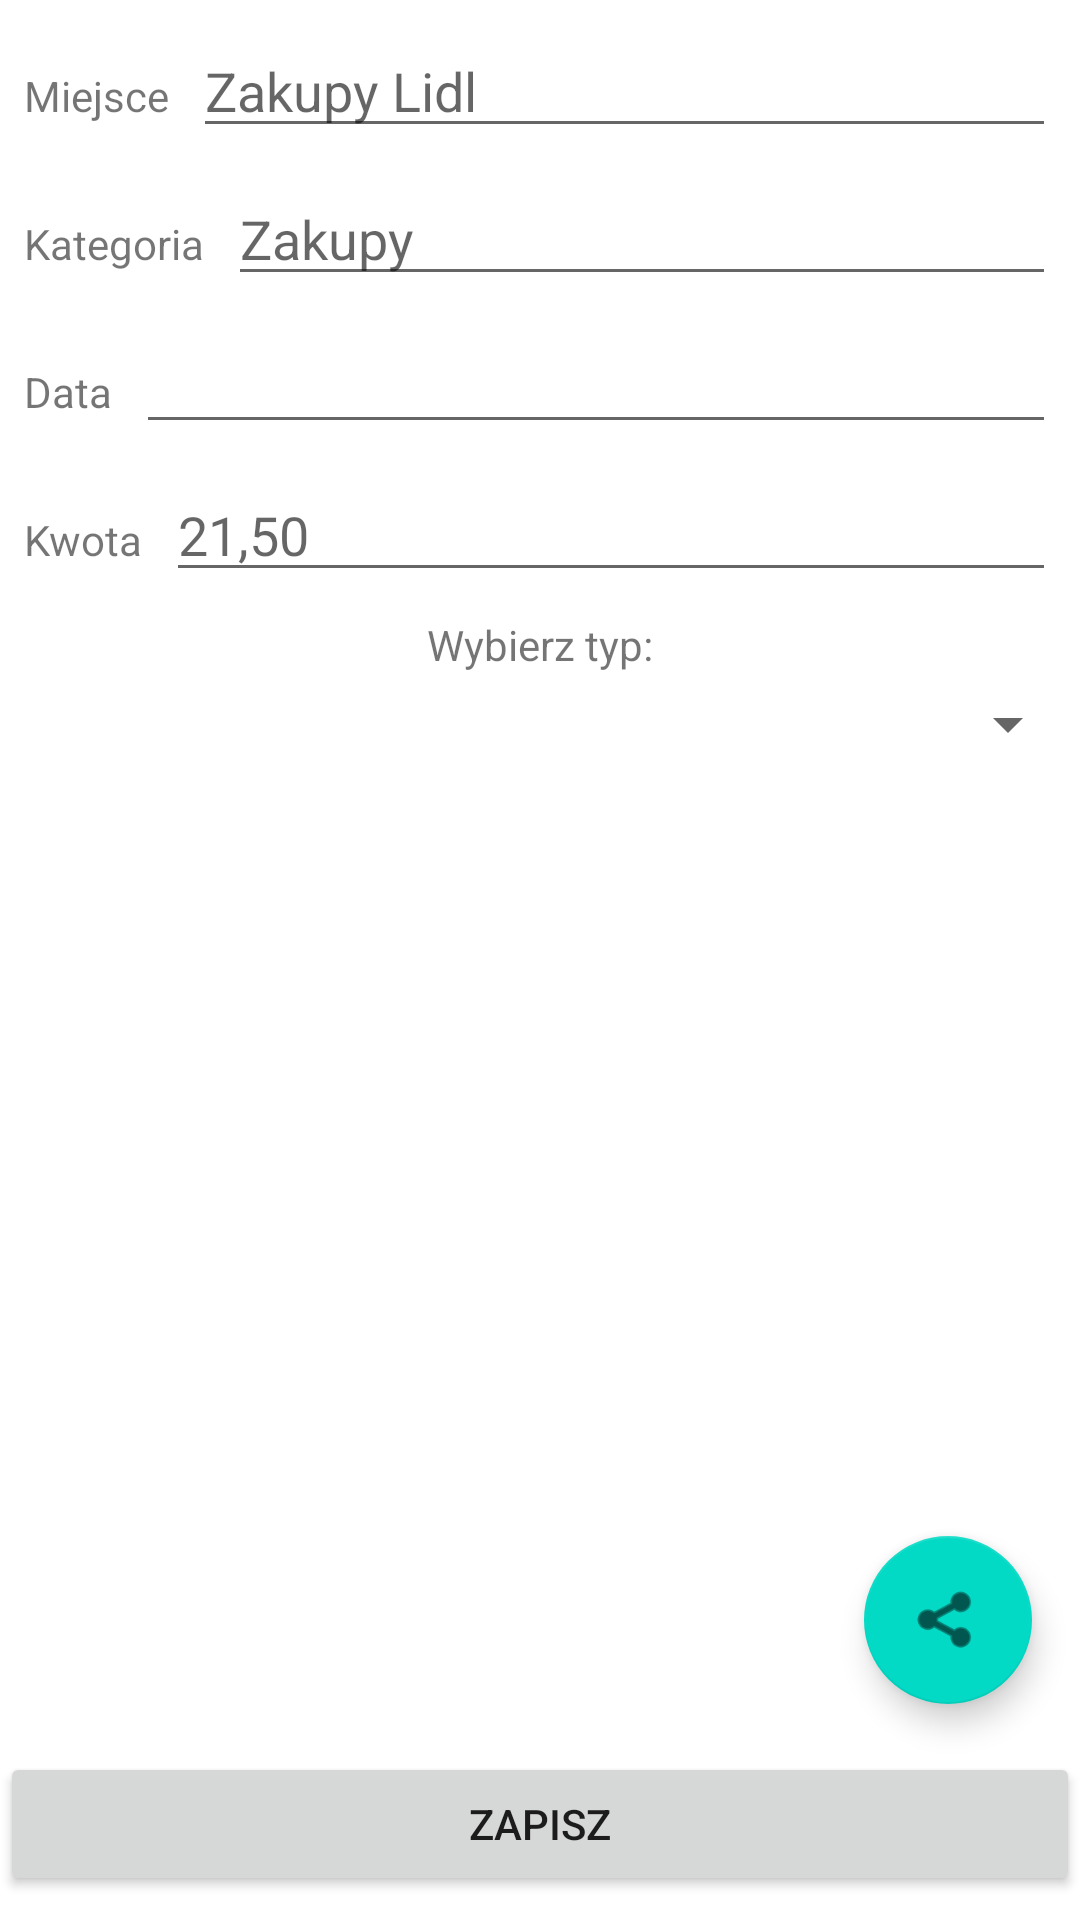

Screen size 1080 × 1920. Icon name, then its box in pixels as (x1, y1, x2, y2):
share: (864, 1536, 1032, 1704)
